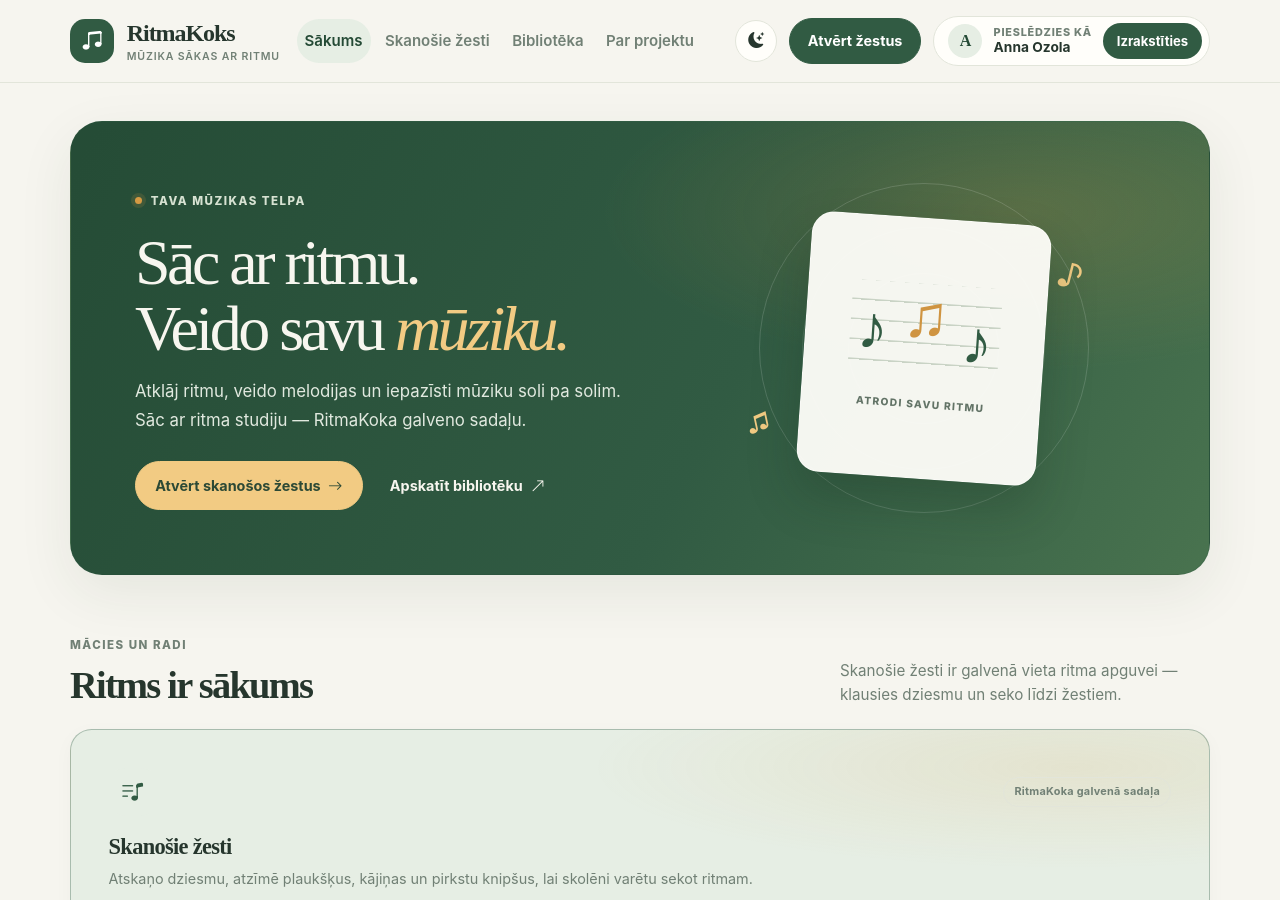
Scenario: application shell › shows the signed-in user name and logs out from the account section
Expected: the element with class "account-panel" shows "Anna Ozola", top-left (994, 39), bottom-right (1071, 55)
Click the button with test id "account-logout".
click(1152, 41)  # box top-left (1103, 23), bottom-right (1202, 59)
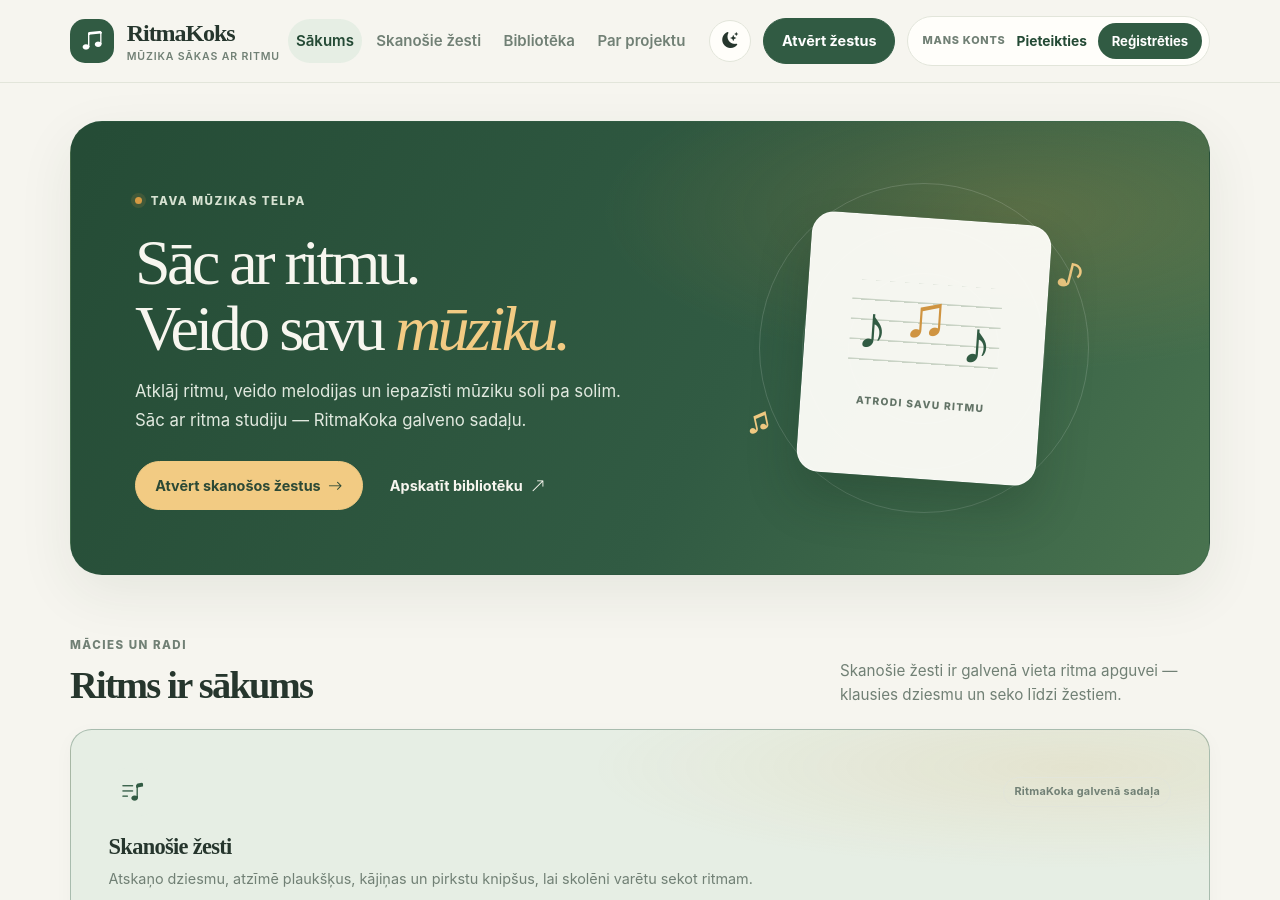
Expected: the element with class "account-panel" shows "Mans konts", top-left (922, 33), bottom-right (1005, 47)
